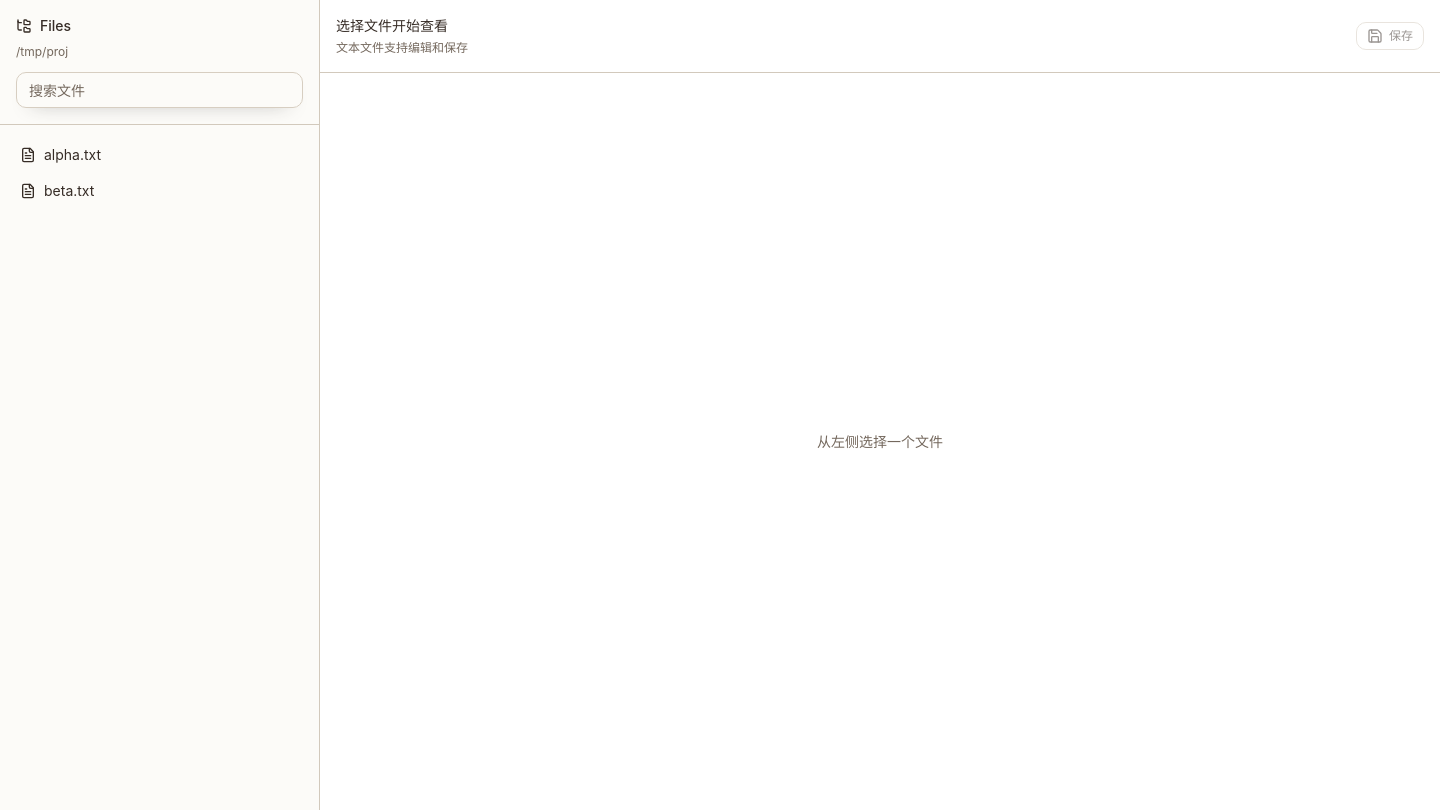
Workspace panels › 会忽略旧文件请求的迟到响应
What coordinates should you click on to do the following:
click the button "alpha.txt"
I would click on:
 (73, 154)
Its box is [8, 137, 311, 173].
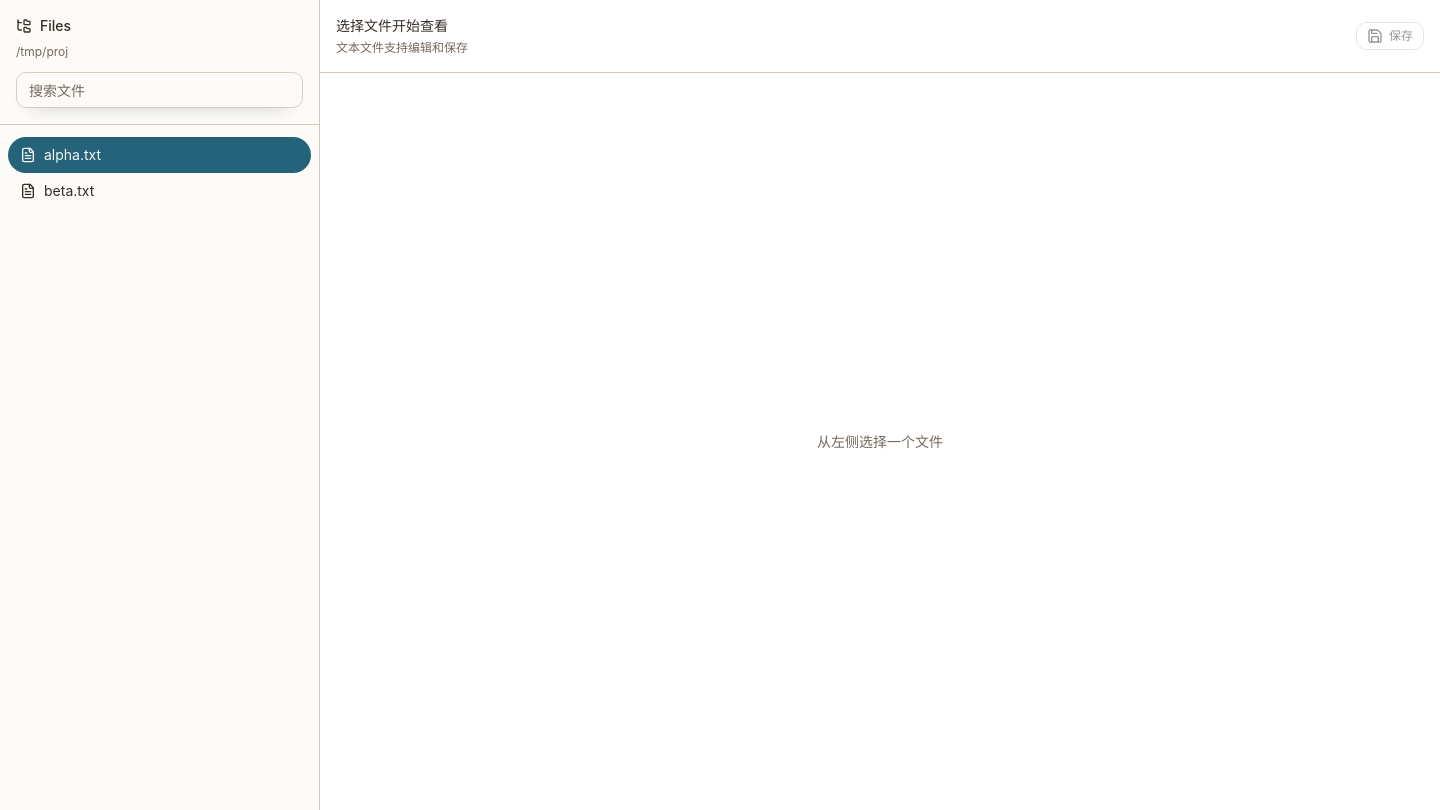
What coordinates should you click on to do the following:
click the button "beta.txt"
I would click on:
 (69, 190)
Its box is [8, 173, 311, 209].
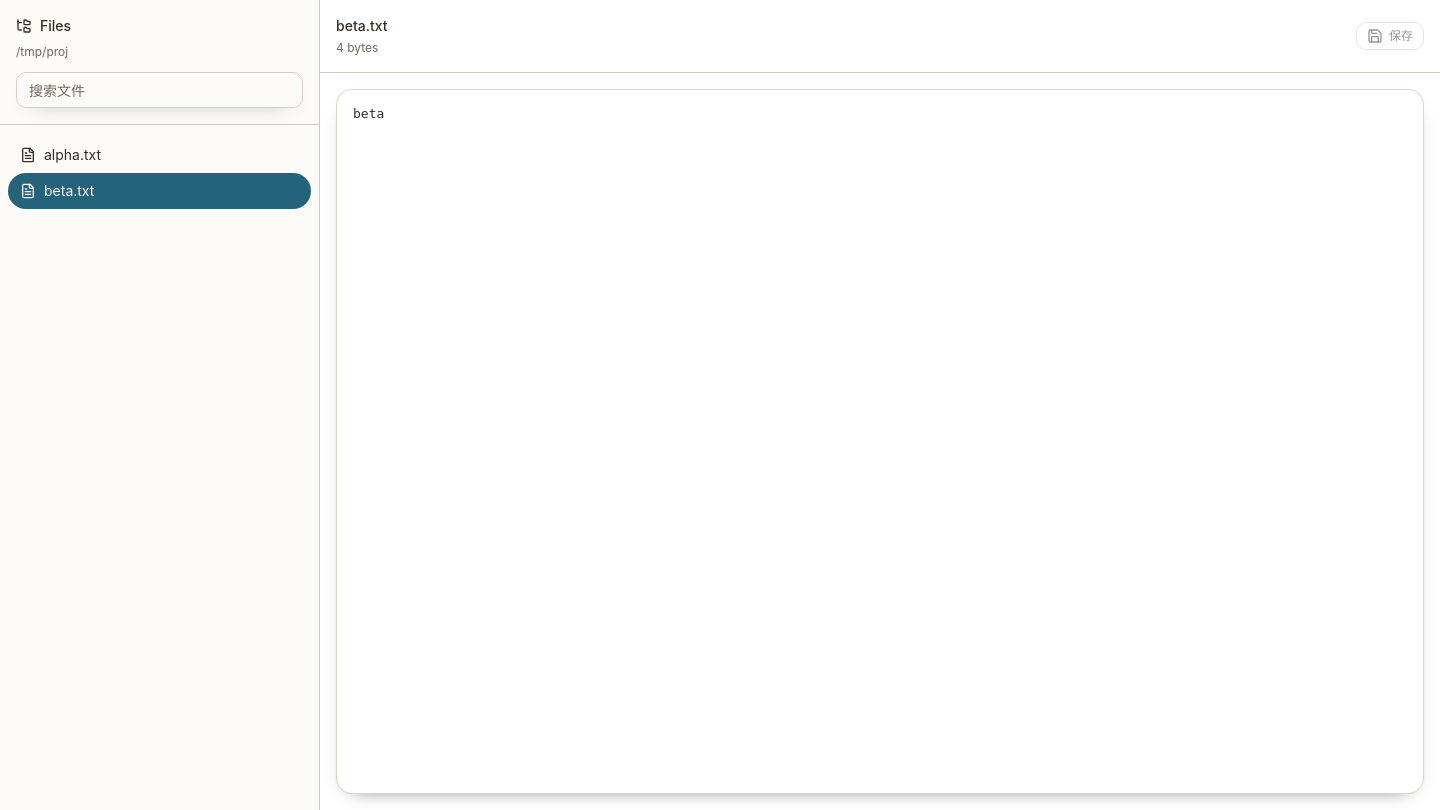
Expected: the text box showing "beta" is shown
